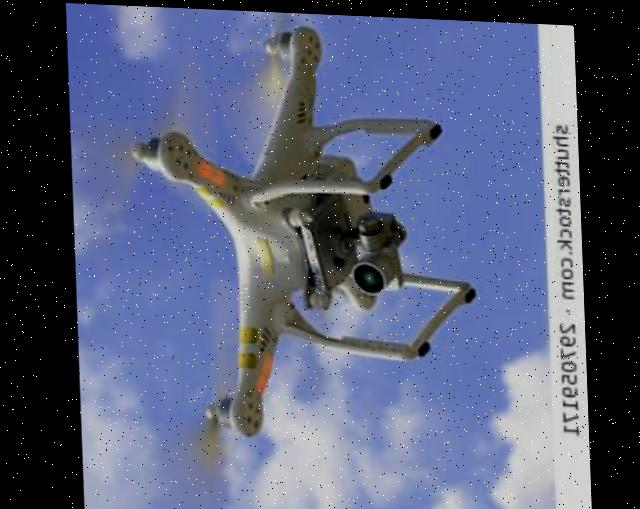drone: (117, 4, 482, 509)
